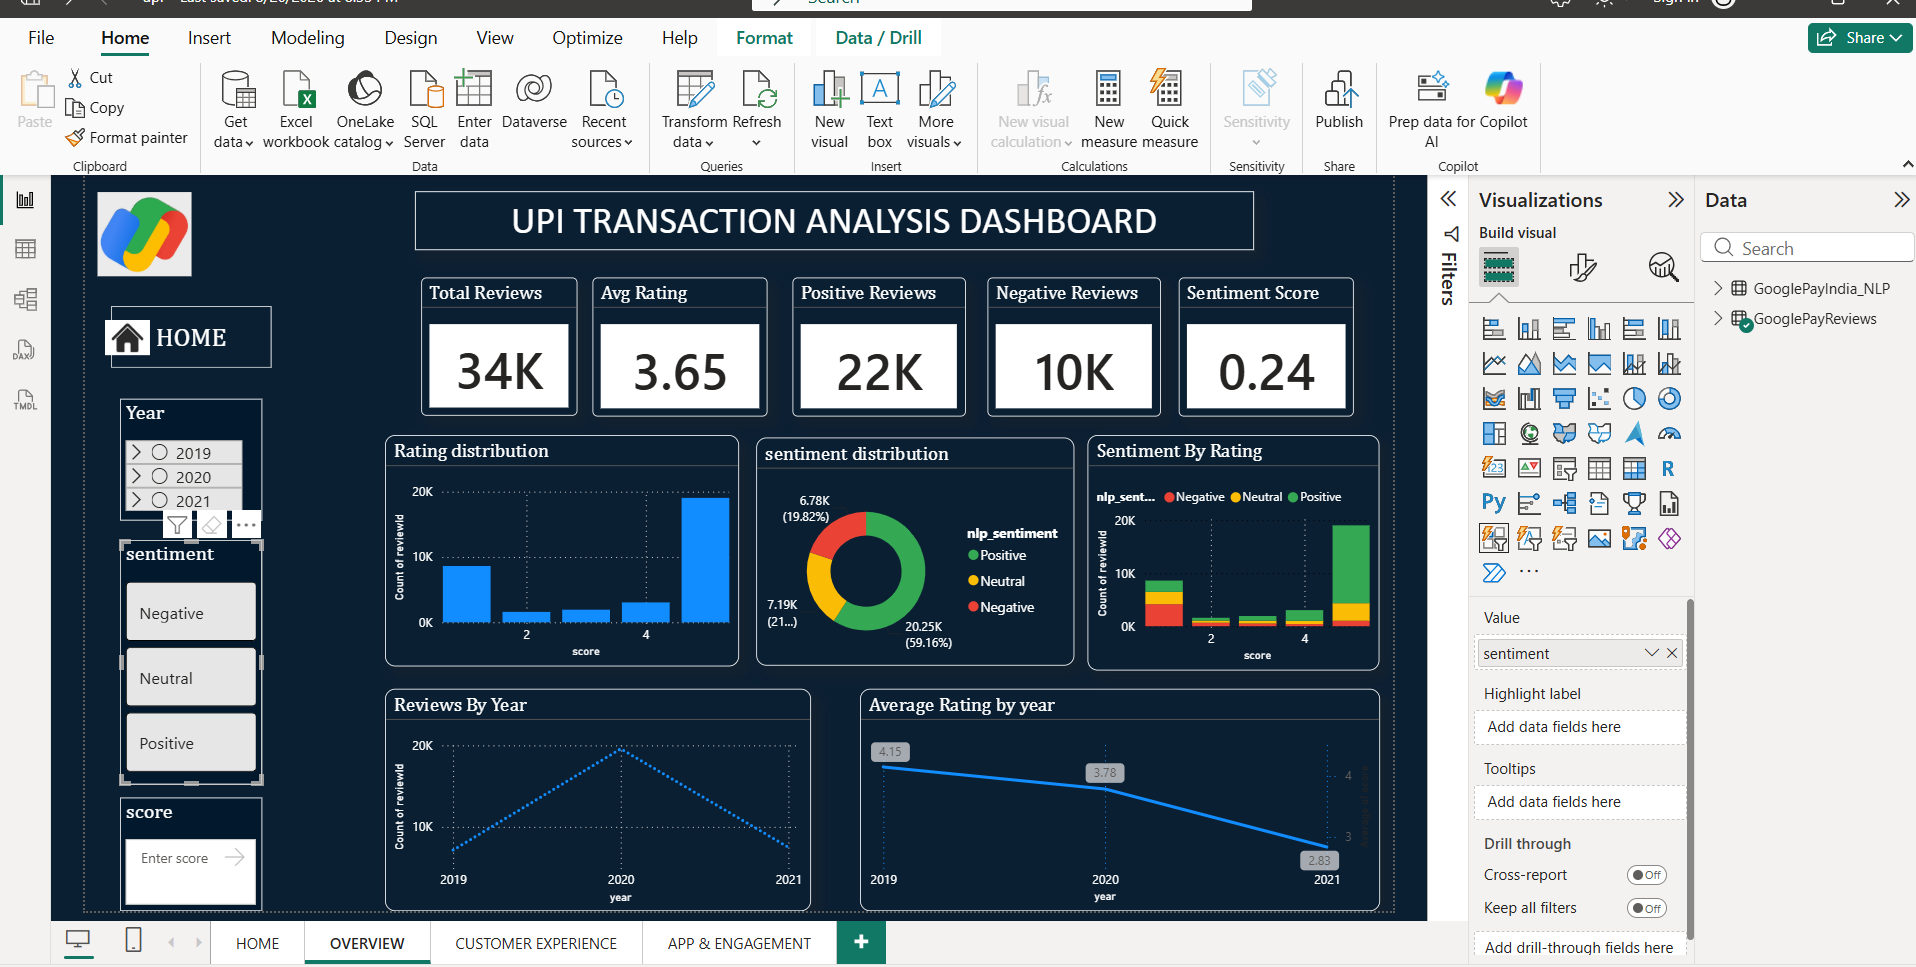

Layout of this report page (visuals, bound fields, positions):
{"tool":"powerbi","page":{"name":"OVERVIEW","canvas":[1280,720],"ordinal":1},"visuals":[{"type":"textbox","box":[322.8,15.9,820.5,57.5],"z":0},{"type":"clusteredColumnChart","title":"Rating distribution","fields":{"Category":["GooglePayReviews.score"],"Y":["CountNonNull(GooglePayReviews.reviewId)"]},"box":[293.5,254.3,346.1,226.2],"z":1000},{"type":"donutChart","title":" sentiment distribution","fields":{"Y":["CountNonNull(GooglePayReviews.reviewId)"],"Category":["GooglePayReviews.nlp_sentiment"]},"box":[656.4,257.1,311.3,223.3],"z":2000},{"type":"cardVisual","title":"Total Reviews","fields":{"Data":["GooglePayReviews.Total Reviews"]},"box":[328.9,100.1,152.9,135.3],"z":3000},{"type":"cardVisual","title":"Avg Rating","fields":{"Data":["GooglePayReviews.Average Rating"]},"box":[496.5,100.3,171.2,135.7],"z":4000},{"type":"cardVisual","title":" Positive Reviews","fields":{"Data":["GooglePayReviews.Positive Reviews"]},"box":[692.1,100.3,170,135.7],"z":5000},{"type":"cardVisual","title":"Negative Reviews","fields":{"Data":["GooglePayReviews.Negative Reviews"]},"box":[882.9,100.3,170,135.7],"z":6000},{"type":"cardVisual","title":"Sentiment Score","fields":{"Data":["Avg(GooglePayReviews.sentiment_score)"]},"box":[1070,100.3,171.2,135.7],"z":7000},{"type":"columnChart","title":"Sentiment By Rating","fields":{"Category":["GooglePayReviews.score"],"Series":["GooglePayReviews.nlp_sentiment"],"Y":["CountNonNull(GooglePayReviews.reviewId)"]},"box":[981.2,254.4,285.6,230.1],"z":8000},{"type":"lineChart","title":"Reviews By Year","fields":{"Category":["GooglePayReviews.year"],"Y":["CountNonNull(GooglePayReviews.reviewId)"]},"box":[293.7,502.1,416.8,217.9],"z":9000},{"type":"lineStackedColumnComboChart","title":"Average Rating by year","fields":{"Category":["GooglePayReviews.year"],"Y2":["Avg(GooglePayReviews.score)"]},"box":[758.2,502.6,508.7,217.7],"z":10000},{"type":"listSlicer","fields":{"Values":["GooglePayReviews.year_month.Variation.Date Hierarchy.Year","GooglePayReviews.year_month.Variation.Date Hierarchy.Quarter","GooglePayReviews.year_month.Variation.Date Hierarchy.Month","GooglePayReviews.year_month.Variation.Date Hierarchy.Day"]},"box":[33.8,219.2,139.4,119.1],"z":11000},{"type":"advancedSlicerVisual","fields":{"Values":["GooglePayReviews.sentiment"]},"box":[33.8,357.3,139.4,239.5],"z":12000},{"type":"textSlicer","fields":{"Values":["GooglePayReviews.score"]},"box":[33.8,609,139.4,111],"z":13000},{"type":"image","box":[12.2,16.2,91.7,84.4],"z":14000},{"type":"shape","box":[26.1,129,156.4,60.4],"z":15000},{"type":"image","box":[19.2,141.3,43.9,34.3],"z":16000}]}

Visuals, with their boxes on the page's 1280x720 design canvas (x1, y1, x2, y2). These are canvas units, not pixel positions in the 1916x967 screenshot, which may show the page scaled, cropped or inside an application window:
textbox: (left=323, top=16, right=1143, bottom=73)
"Rating distribution" clusteredColumnChart: (left=294, top=254, right=640, bottom=480)
" sentiment distribution" donutChart: (left=656, top=257, right=968, bottom=480)
"Total Reviews" cardVisual: (left=329, top=100, right=482, bottom=235)
"Avg Rating" cardVisual: (left=496, top=100, right=668, bottom=236)
" Positive Reviews" cardVisual: (left=692, top=100, right=862, bottom=236)
"Negative Reviews" cardVisual: (left=883, top=100, right=1053, bottom=236)
"Sentiment Score" cardVisual: (left=1070, top=100, right=1241, bottom=236)
"Sentiment By Rating" columnChart: (left=981, top=254, right=1267, bottom=484)
"Reviews By Year" lineChart: (left=294, top=502, right=710, bottom=720)
"Average Rating by year" lineStackedColumnComboChart: (left=758, top=503, right=1267, bottom=720)
listSlicer - GooglePayReviews.year_month.Variation.Date Hierarchy.Year x GooglePayReviews.year_month.Variation.Date Hierarchy.Quarter: (left=34, top=219, right=173, bottom=338)
advancedSlicerVisual - GooglePayReviews.sentiment: (left=34, top=357, right=173, bottom=597)
textSlicer - GooglePayReviews.score: (left=34, top=609, right=173, bottom=720)
image: (left=12, top=16, right=104, bottom=101)
shape: (left=26, top=129, right=182, bottom=189)
image: (left=19, top=141, right=63, bottom=176)
